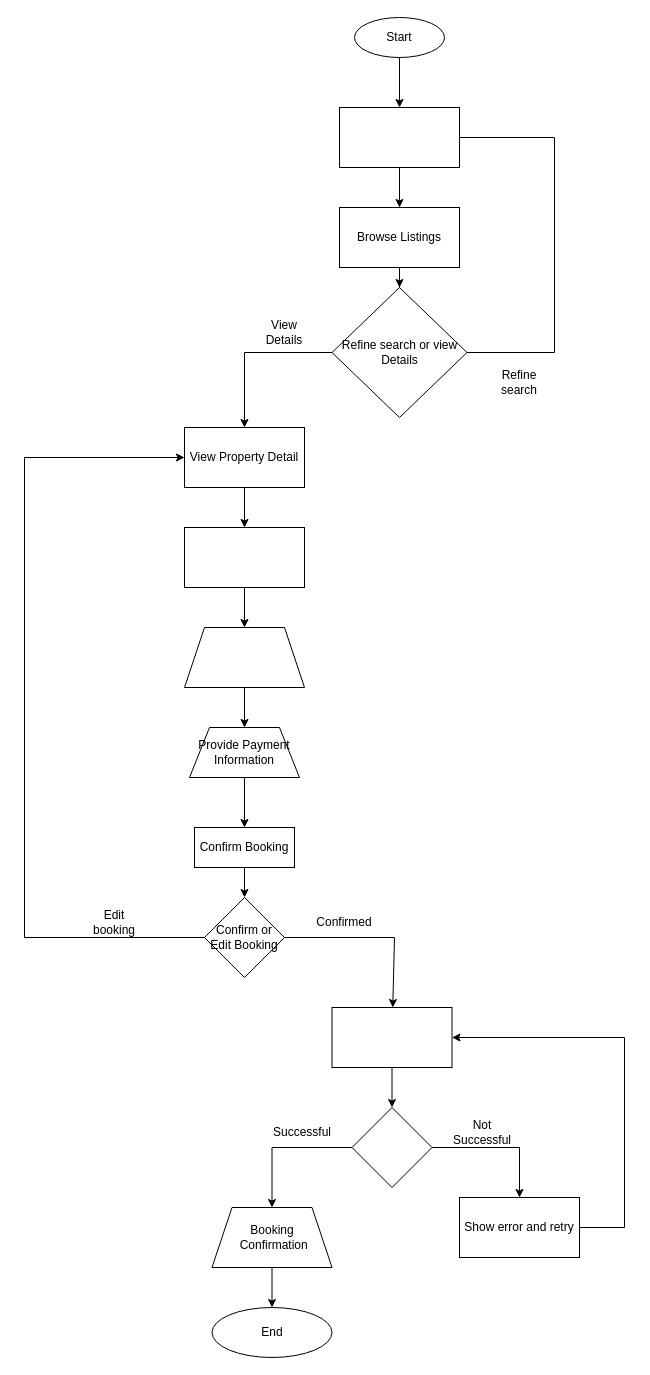
Some shapes in this 650 by 1375 pixel diagram are drawn without their labels. The shapes that lost their labels are listed below. From the top down, each one's centre as x and y in pixels, then its label:
At pixel 399 137: "Search for properties".
At pixel 244 557: "Select Property and Book Now".
At pixel 244 657: "Enter Personal Information".
At pixel 391 1037: "Payment Processing".
At pixel 391 1147: "Payment Successful?".
